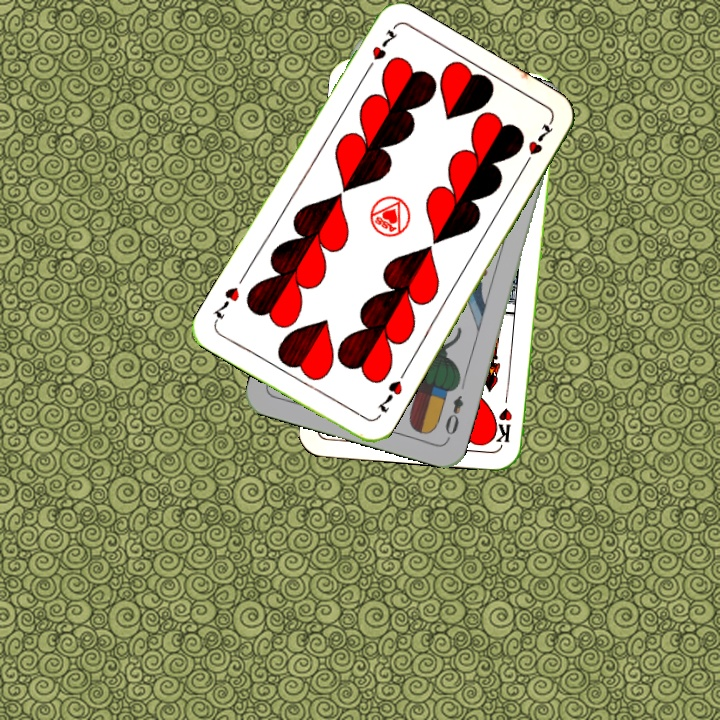EO: (441, 391, 466, 443)
H7: (360, 24, 401, 77), (373, 376, 405, 415)
HK: (492, 386, 515, 445)
